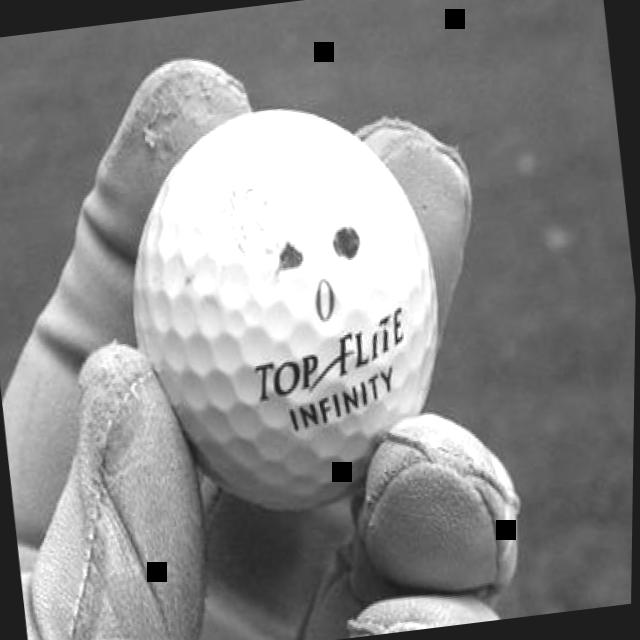golf ball: (105, 89, 464, 522)
